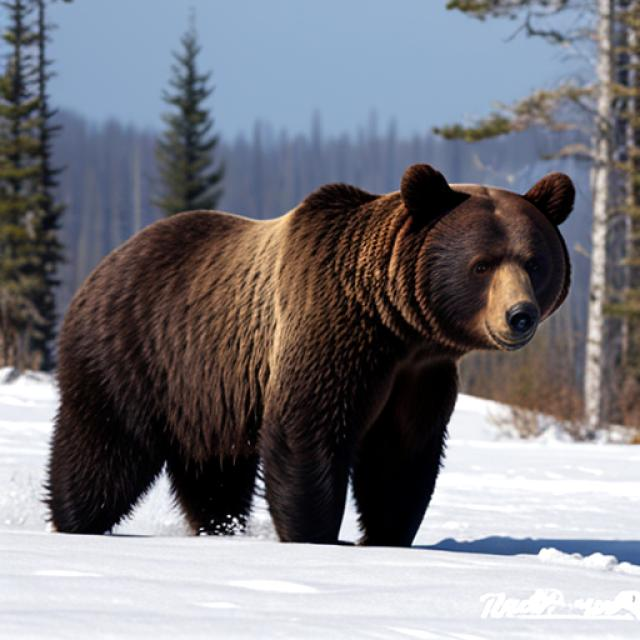bear: (39, 152, 589, 592)
